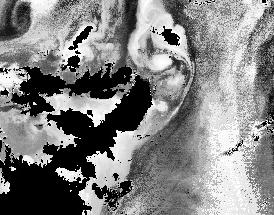CE: (10, 1, 34, 31)
